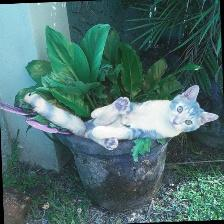kedo: (23, 93, 221, 151)
